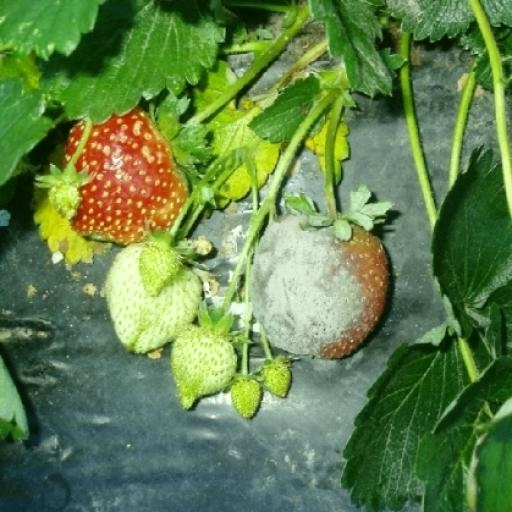Gray Mold: (123, 214, 264, 358)
